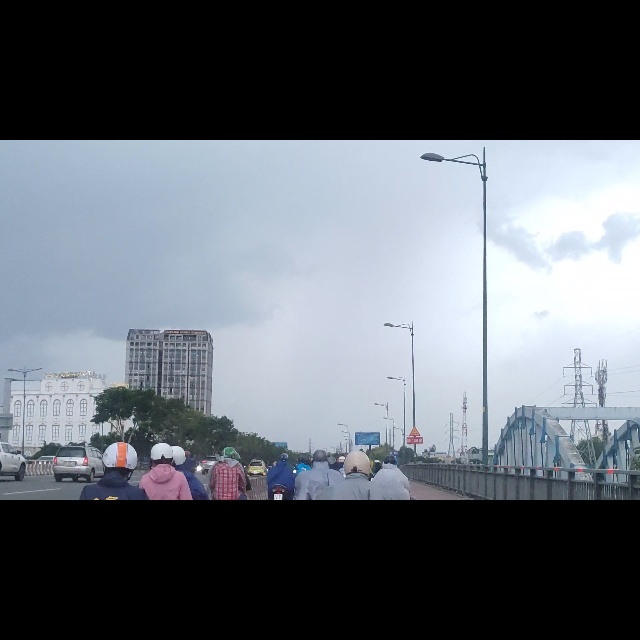bien_cam: (408, 507, 421, 526)
